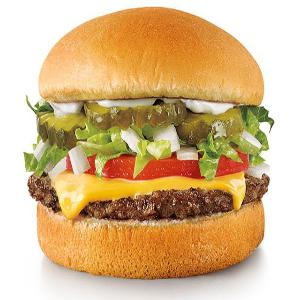cheeseburger: (16, 5, 282, 277)
